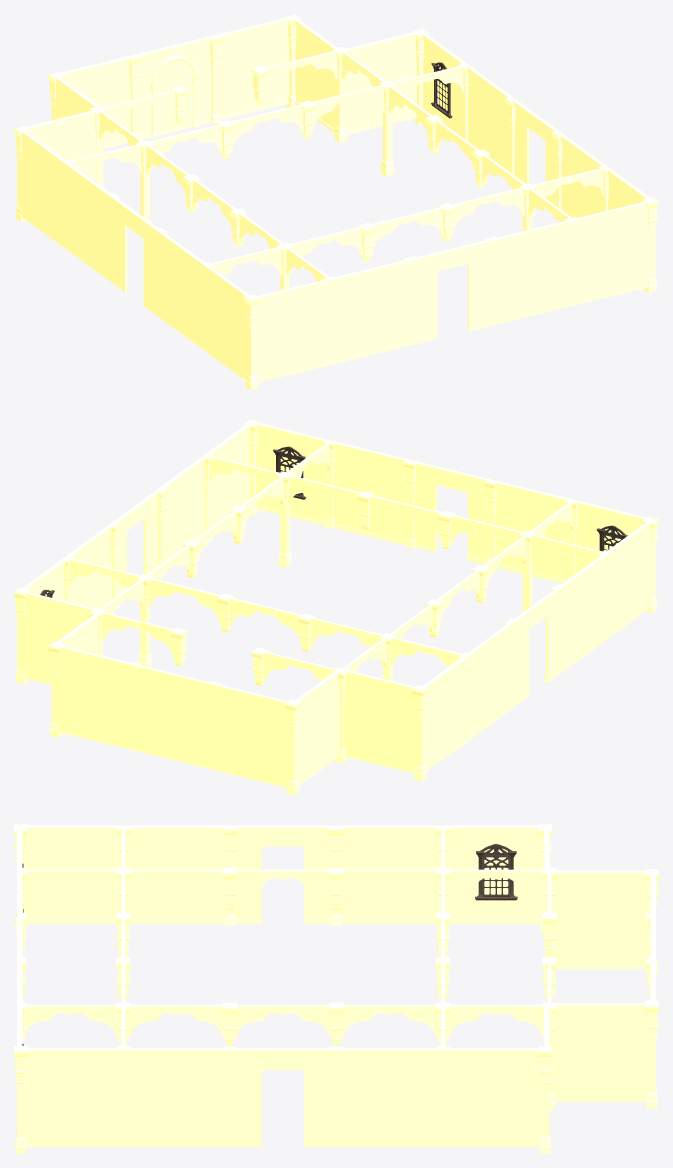
Rendered from Homeworld_Interior_Md_Room_P_Wall_01_Vo.fbx.
3 renders of one model, top to bottom at view 1: azimuth 30°, elevation 25°; view 2: azimuth 150°, elevation 25°; view 3: azimuth 270°, elevation 25°, orthographic. The views are drawn at different scales.
Visible parts, largest first — view 1: Homeworld_Interior_Md_Room_Wall_01_Vo (×14), Homeworld_Interior_Md_Room_Wall_03_Vo (×4), Homeworld_Interior_Md_Room_Wall_04_Vo (×22), Homeworld_Interior_Md_Room_Wall_06_Vo (×3), Homeworld_Interior_Md_Room_Wall_07_Vo, Homeworld_Interior_Md_Room_Pillar_01_Vo (×6), Homeworld_Interior_Md_Room_P_Filling_01_Vo, Homeworld_Interior_Md_Room_Pillar_02_Vo (×4); view 2: Homeworld_Interior_Md_Room_Wall_01_Vo (×10), Homeworld_Interior_Md_Room_P_Filling_01_Vo, Homeworld_Interior_Md_Room_Wall_04_Vo (×22), Homeworld_Interior_Md_Room_Wall_03_Vo (×4), Homeworld_Interior_Md_Room_Wall_06_Vo (×3), Homeworld_Interior_Md_Room_Pillar_01_Vo (×7), Homeworld_Interior_Md_Room_Wall_07_Vo, Homeworld_Interior_Md_Room_Pillar_02_Vo (×5); view 3: Homeworld_Interior_Md_Room_Wall_01_Vo (×8), Homeworld_Interior_Md_Room_Wall_03_Vo (×2), Homeworld_Interior_Md_Room_Wall_04_Vo (×10), Homeworld_Interior_Md_Room_Wall_06_Vo (×2), Homeworld_Interior_Md_Room_P_Filling_01_Vo, Homeworld_Interior_Md_Room_Pillar_01_Vo (×5), Homeworld_Interior_Md_Room_Pillar_03_Vo (×5), Homeworld_Interior_Md_Room_Pillar_02_Vo (×2).
Boxes of the visible parts, <box> form: Homeworld_Interior_Md_Room_Wall_01_Vo (×14): <box>17,16,655,379</box>; Homeworld_Interior_Md_Room_Wall_03_Vo (×4): <box>17,30,655,382</box>; Homeworld_Interior_Md_Room_Wall_04_Vo (×22): <box>67,50,605,281</box>; Homeworld_Interior_Md_Room_Wall_06_Vo (×3): <box>111,98,561,344</box>; Homeworld_Interior_Md_Room_Wall_07_Vo: <box>133,35,215,139</box>; Homeworld_Interior_Md_Room_Pillar_01_Vo (×6): <box>136,14,429,390</box>; Homeworld_Interior_Md_Room_P_Filling_01_Vo: <box>17,15,655,351</box>; Homeworld_Interior_Md_Room_Pillar_02_Vo (×4): <box>129,36,562,220</box>; Homeworld_Interior_Md_Room_Wall_01_Vo (×10): <box>53,421,655,784</box>; Homeworld_Interior_Md_Room_P_Filling_01_Vo: <box>17,420,654,786</box>; Homeworld_Interior_Md_Room_Wall_04_Vo (×22): <box>67,442,605,680</box>; Homeworld_Interior_Md_Room_Wall_03_Vo (×4): <box>19,421,654,770</box>; Homeworld_Interior_Md_Room_Wall_06_Vo (×3): <box>111,460,561,706</box>; Homeworld_Interior_Md_Room_Pillar_01_Vo (×7): <box>136,419,536,795</box>; Homeworld_Interior_Md_Room_Wall_07_Vo: <box>133,664,215,769</box>; Homeworld_Interior_Md_Room_Pillar_02_Vo (×5): <box>110,441,497,610</box>; Homeworld_Interior_Md_Room_Wall_01_Vo (×8): <box>17,825,655,1146</box>; Homeworld_Interior_Md_Room_Wall_03_Vo (×2): <box>443,825,549,1146</box>; Homeworld_Interior_Md_Room_Wall_04_Vo (×10): <box>22,869,549,1036</box>; Homeworld_Interior_Md_Room_Wall_06_Vo (×2): <box>230,825,336,1146</box>; Homeworld_Interior_Md_Room_P_Filling_01_Vo: <box>17,847,655,1146</box>; Homeworld_Interior_Md_Room_Pillar_01_Vo (×5): <box>14,824,658,1153</box>; Homeworld_Interior_Md_Room_Pillar_03_Vo (×5): <box>222,867,556,1044</box>; Homeworld_Interior_Md_Room_Pillar_02_Vo (×2): <box>222,827,343,925</box>.
Size of what is drawn, in the model's own units: 25.27 by 5.33 by 30.27.
